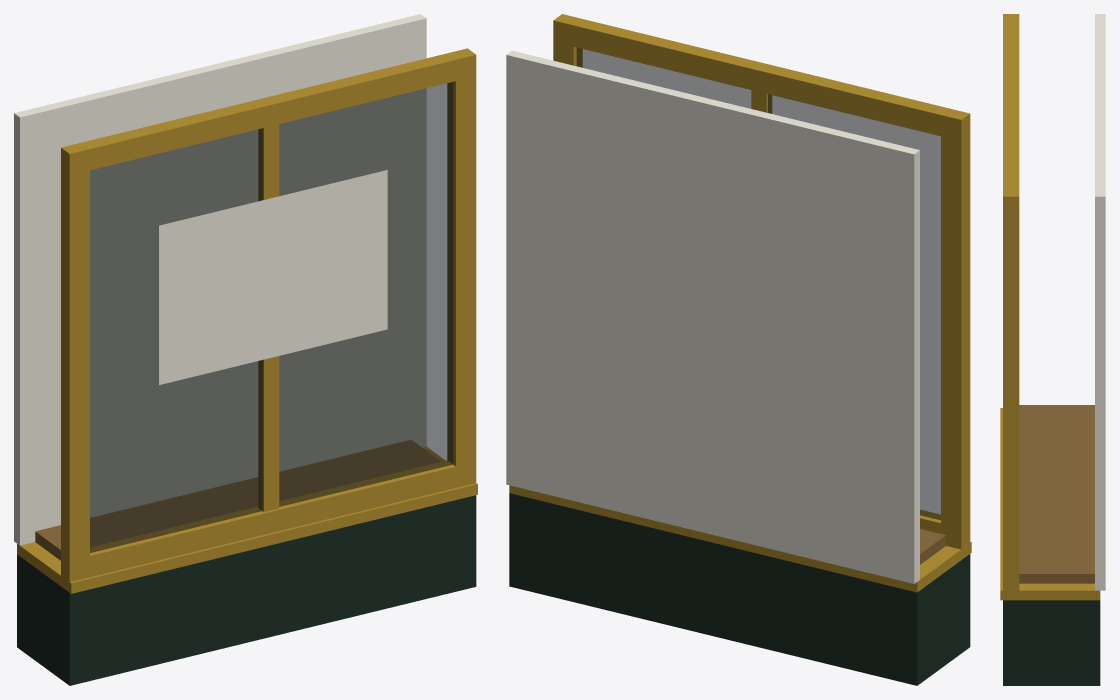
The model's file is display-window.glb.
3 views of the same model, side by side, from view 1: azimuth 30°, elevation 25°; view 2: azimuth 150°, elevation 25°; view 3: azimuth 270°, elevation 25° (orthographic). The views are drawn at different scales.
Parts seen in each view (by area): view 1: back_panel, glass, plinth, window_decal_slot, frame_top, frame_right, frame_left, frame_bottom, display_deck, plinth_lip, mullion; view 2: back_panel, plinth, glass, frame_top, frame_left, plinth_lip, frame_bottom, frame_right; view 3: display_deck, plinth, back_panel, frame_right, frame_top, plinth_lip, frame_bottom.
Part boxes in pixels (x1,y1,x2,y2): back_panel: [14, 14, 426, 545]; glass: [90, 82, 453, 552]; plinth: [17, 495, 476, 685]; window_decal_slot: [159, 170, 387, 384]; frame_top: [61, 48, 476, 174]; frame_right: [447, 49, 476, 487]; frame_left: [61, 142, 89, 581]; frame_bottom: [61, 460, 475, 581]; display_deck: [35, 440, 440, 560]; plinth_lip: [17, 446, 477, 593]; mullion: [258, 124, 279, 511]; back_panel: [506, 50, 919, 583]; plinth: [509, 493, 970, 685]; glass: [576, 47, 940, 520]; frame_top: [553, 16, 970, 140]; frame_left: [941, 109, 970, 542]; plinth_lip: [509, 485, 971, 592]; frame_bottom: [920, 509, 970, 549]; frame_right: [553, 14, 582, 67]; display_deck: [1019, 405, 1094, 583]; plinth: [1003, 600, 1100, 685]; back_panel: [1095, 14, 1105, 590]; frame_right: [1003, 187, 1019, 588]; frame_top: [1003, 14, 1019, 215]; plinth_lip: [1000, 408, 1100, 600]; frame_bottom: [1003, 571, 1019, 590].
Bounding box in the file's own units: 1.6 × 2 × 0.39.
